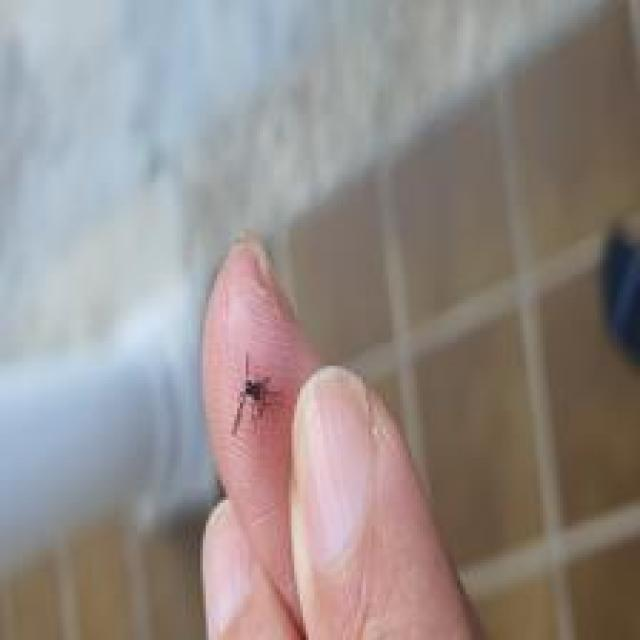Aedes albopictus: (228, 350, 283, 436)
